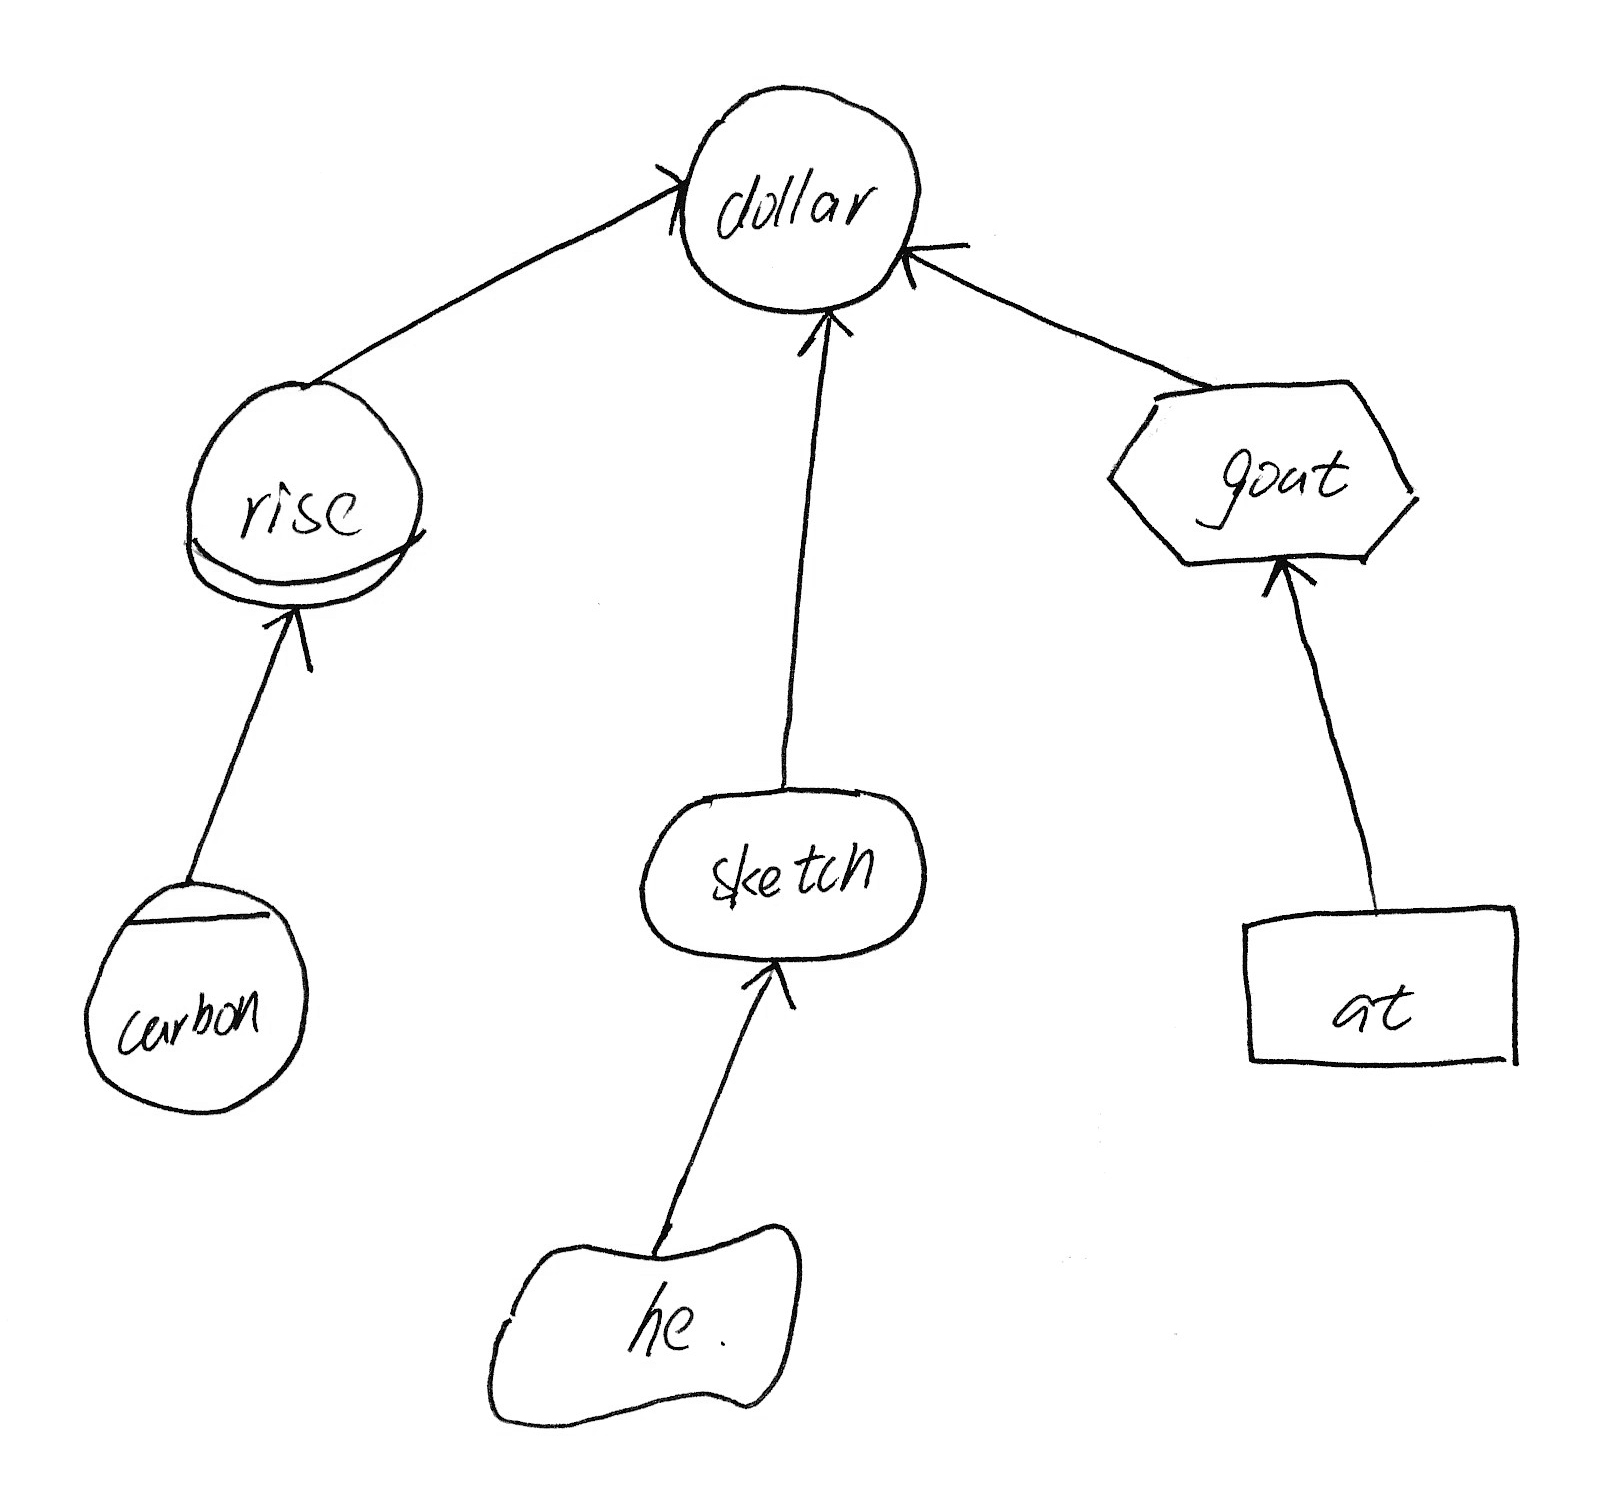actor: (661, 64, 939, 327)
agent: (66, 856, 324, 1132)
arrow: (249, 593, 330, 685), (890, 223, 980, 297), (724, 948, 813, 1021), (1244, 543, 1337, 612), (789, 293, 862, 371), (649, 146, 702, 243)
goal: (620, 771, 939, 975)
quality: (467, 1205, 816, 1440)
resource: (1219, 887, 1541, 1086)
role: (166, 364, 434, 622)
task: (1095, 364, 1440, 587)
